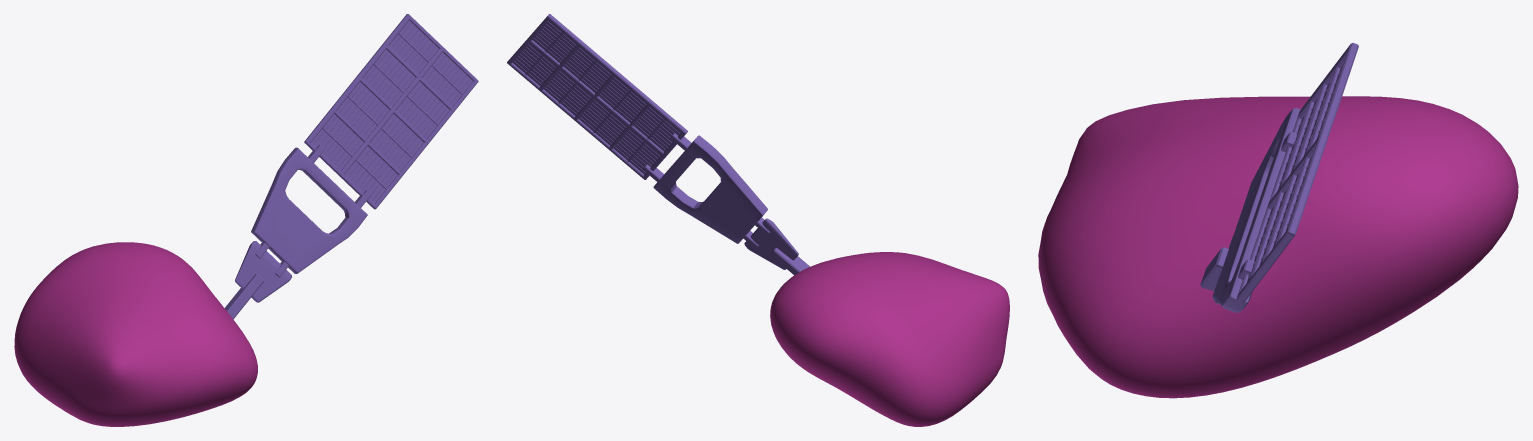
File: panel.fbx
3 renders of one model, left to right at view 1: azimuth 30°, elevation 25°; view 2: azimuth 150°, elevation 25°; view 3: azimuth 270°, elevation 25°, orthographic. The views are drawn at different scales.
Visible parts, largest first — view 1: panel; view 2: panel; view 3: panel.
Part boxes in pixels (x1=…): panel: x1=14, y1=14, x2=478, y2=426; panel: x1=507, y1=14, x2=1009, y2=426; panel: x1=1038, y1=43, x2=1518, y2=398.
Bounding box in the file's own units: 541 × 357 × 258.
